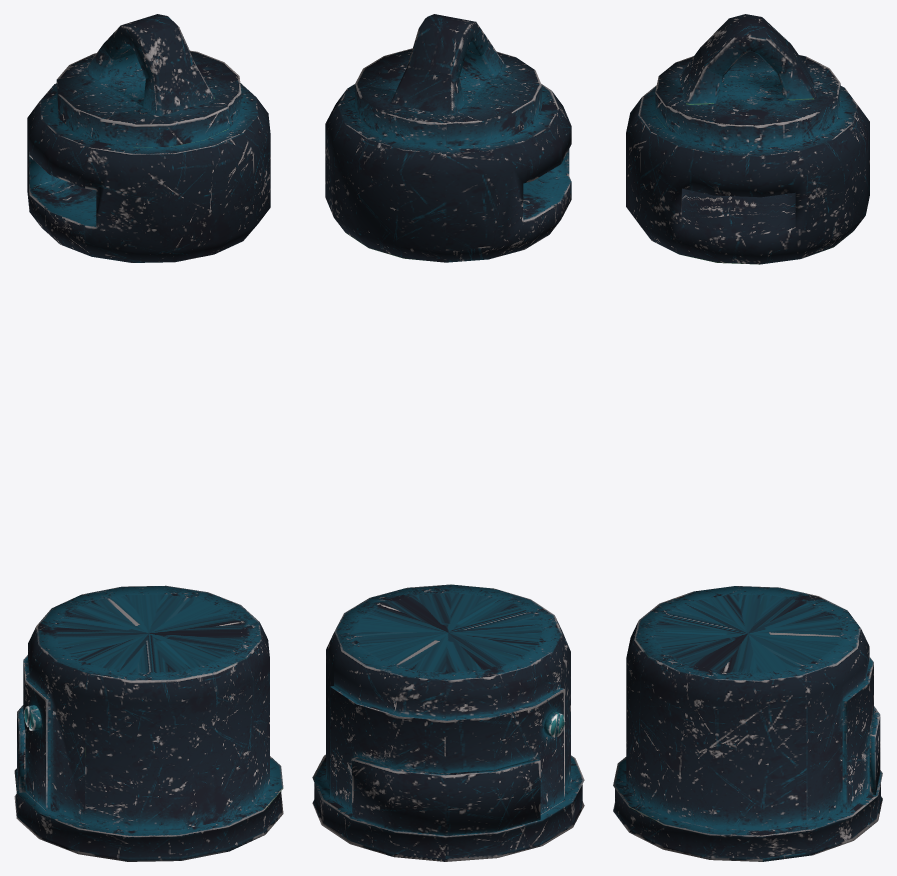
The model's file is podstawy.gltf.
3 views of the same model, side by side, from view 1: azimuth 30°, elevation 25°; view 2: azimuth 150°, elevation 25°; view 3: azimuth 270°, elevation 25° (orthographic).
Visible parts, largest first — view 1: Cylinder.001; view 2: Cylinder.001; view 3: Cylinder.001.
Boxes of the visible parts, <box> form: Cylinder.001: <box>14,14,283,861</box>; Cylinder.001: <box>312,14,584,861</box>; Cylinder.001: <box>613,14,882,861</box>.
Size of the model in its own units: 2.28 by 7.28 by 2.28.
1 material, 1 textured.
